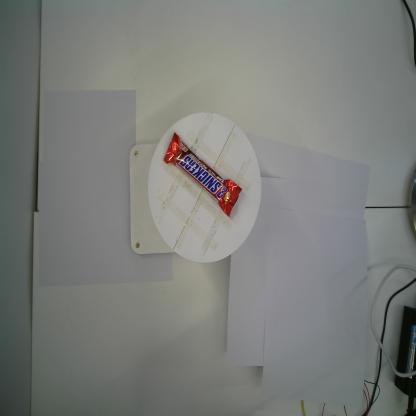Chocolate: (161, 128, 244, 221)
